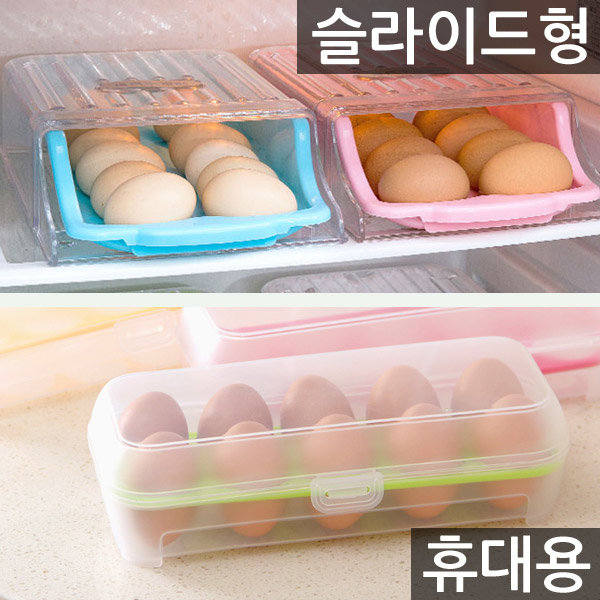egg: (116, 361, 545, 539), (66, 125, 299, 226), (351, 107, 576, 201)
